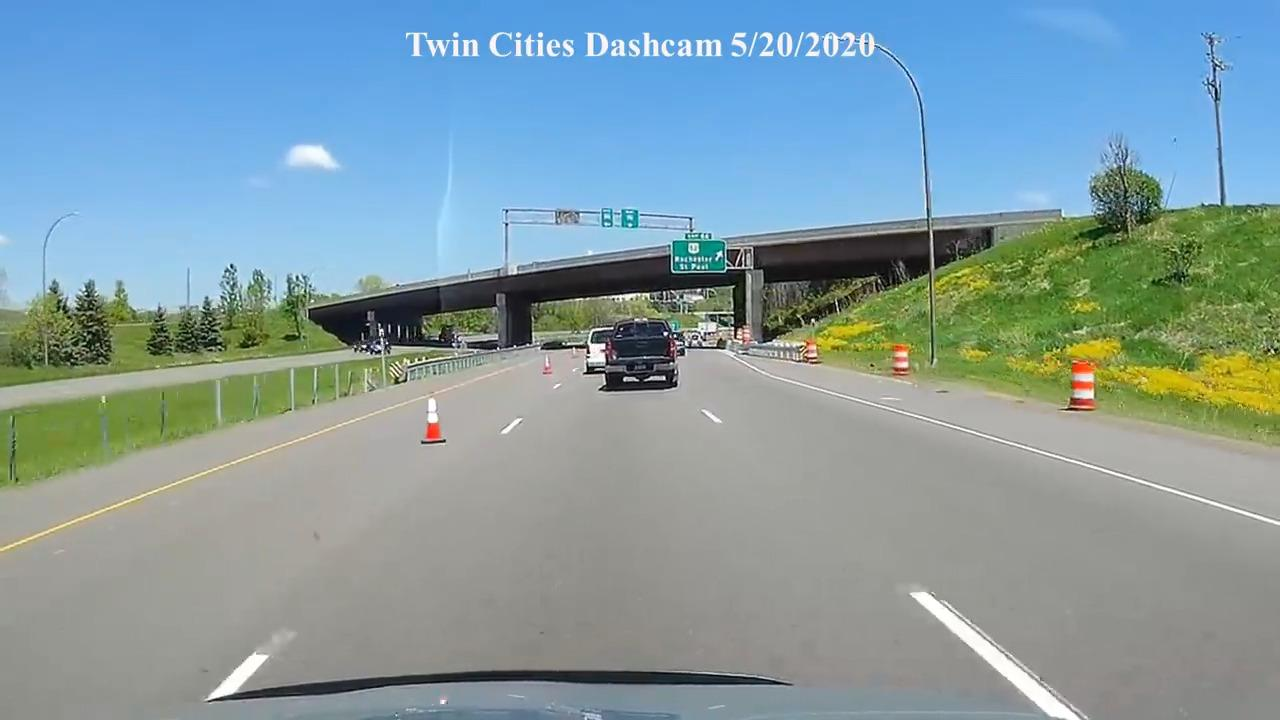car: (603, 317, 680, 391), (585, 327, 616, 374)
traffic cone: (1064, 360, 1096, 411), (419, 395, 447, 444), (891, 344, 911, 375), (802, 339, 820, 364), (541, 355, 554, 375)
